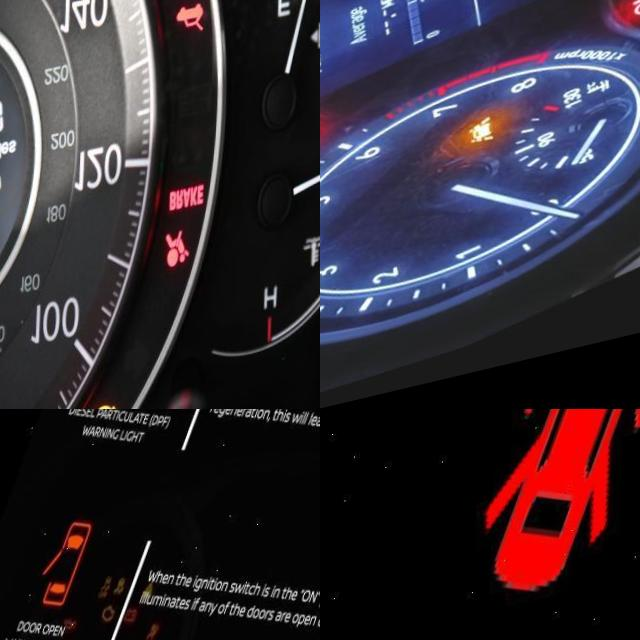Electronic Power Steering: (617, 23, 640, 64)
